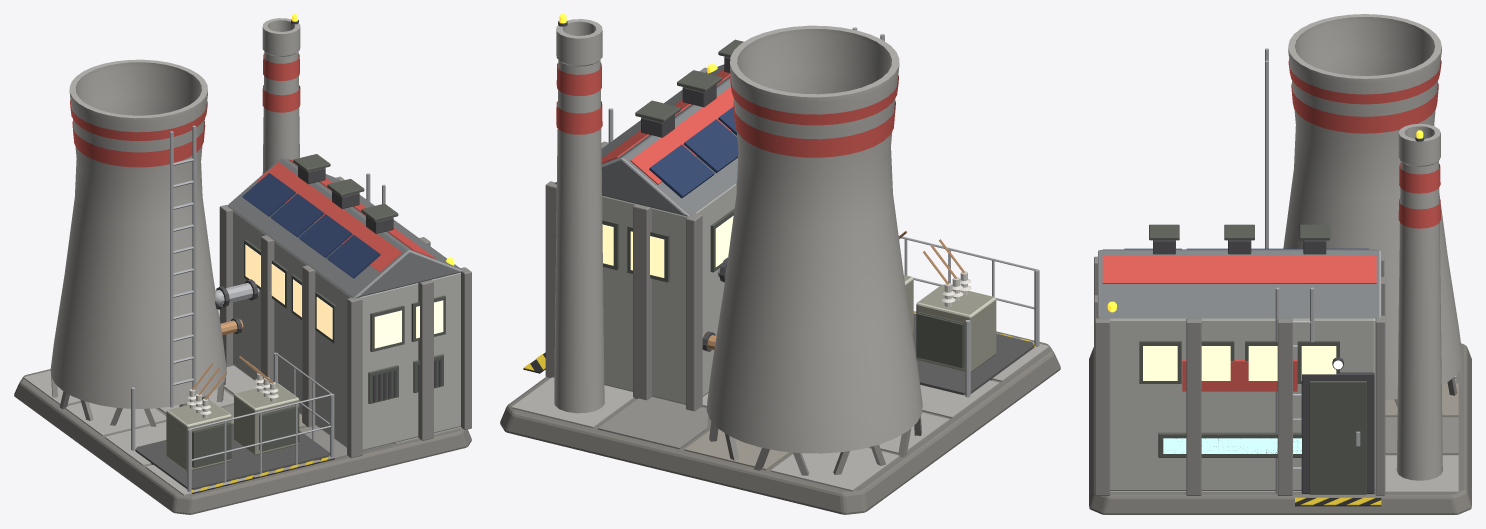
File: power_plant_red.glb
3 renders of one model, left to right at view 1: azimuth 30°, elevation 25°; view 2: azimuth 150°, elevation 25°; view 3: azimuth 270°, elevation 25°, orthographic. The views are drawn at different scales.
Parts seen in each view (by area): view 1: Body; view 2: Body; view 3: Body.
Part boxes in pixels (bbox=[...]): Body: bbox=[14, 14, 471, 514]; Body: bbox=[500, 14, 1060, 514]; Body: bbox=[1089, 14, 1471, 514].
Bounding box in the file's own units: 4.18 × 4.21 × 3.98.
1 material, 1 textured.
